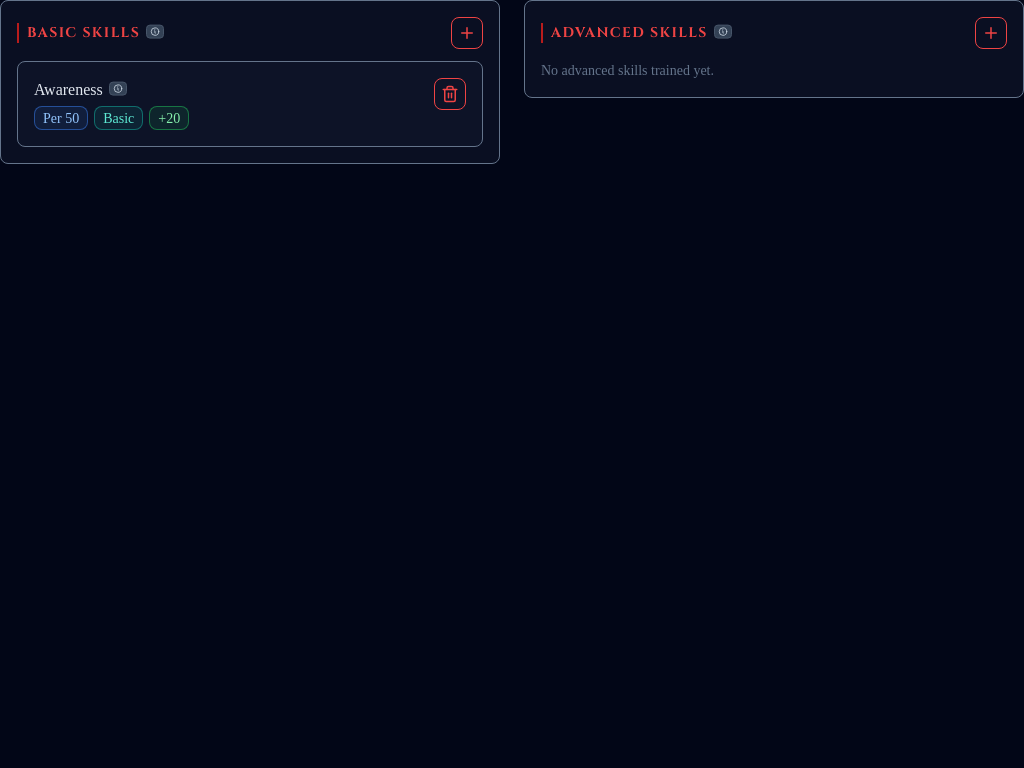
SkillsTab › offers Downgrade to +10 or full removal from +20
Click the button named "Remove Awareness".
click(450, 94)  # box x1=434 y1=78 x2=466 y2=110
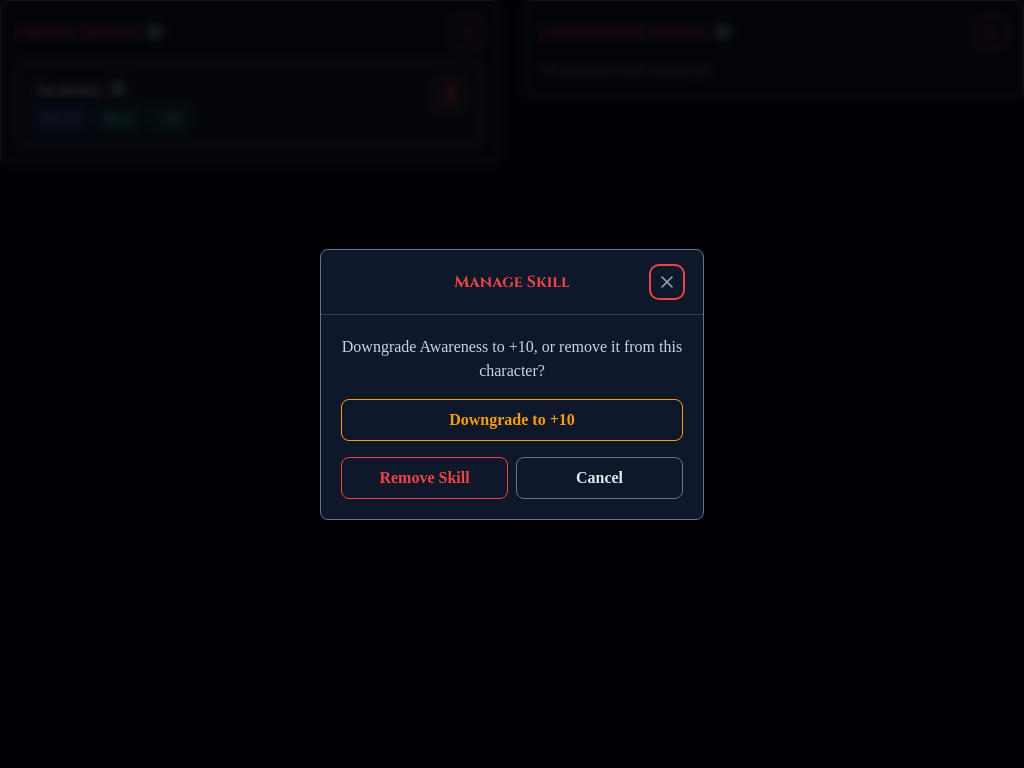
Expected: the button "Remove Skill" is shown, x1=341 y1=456 x2=508 y2=498
Expected: the button "Cancel" is shown, x1=516 y1=456 x2=683 y2=498
Click the button "Downgrade to +10".
click(512, 420)  # box x1=341 y1=398 x2=683 y2=440
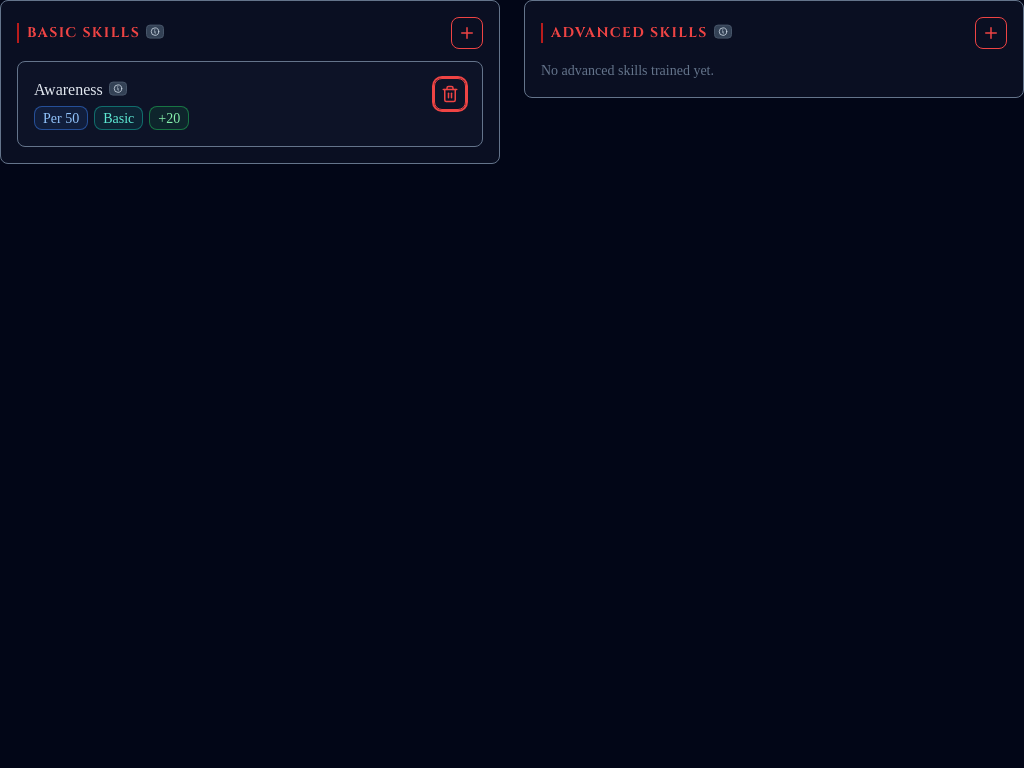
Expected: the heading "Manage Skill" is gone
